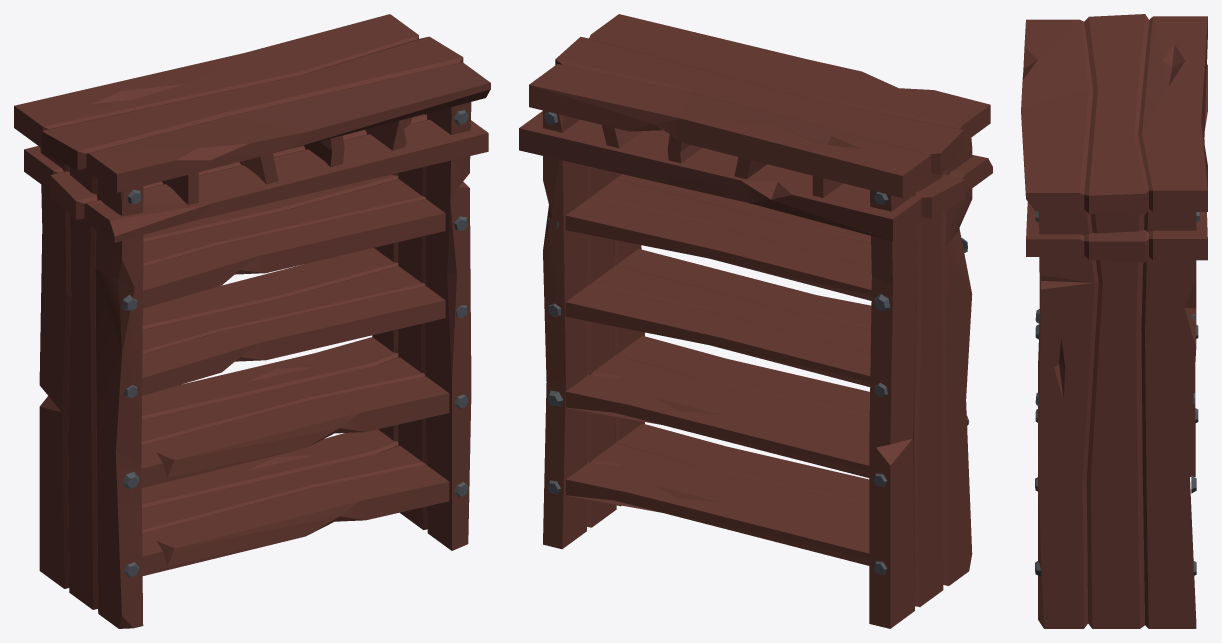
The model's file is SM_Gen_Prop_Shelf_02.glb.
The picture shows the model from 3 angles, left to right: view 1: azimuth 30°, elevation 25°; view 2: azimuth 150°, elevation 25°; view 3: azimuth 270°, elevation 25°; orthographic projection. The views are drawn at different scales.
Parts seen in each view (by area): view 1: SM_Gen_Prop_Shelf_02; view 2: SM_Gen_Prop_Shelf_02; view 3: SM_Gen_Prop_Shelf_02.
Boxes of the visible parts, x1,y1,x2,y2 form: SM_Gen_Prop_Shelf_02: (14,14,490,628); SM_Gen_Prop_Shelf_02: (519,14,992,628); SM_Gen_Prop_Shelf_02: (1021,14,1207,628).
Size of the model in its own units: 2.11 by 2.36 by 0.9047.
1 material, 1 textured.
